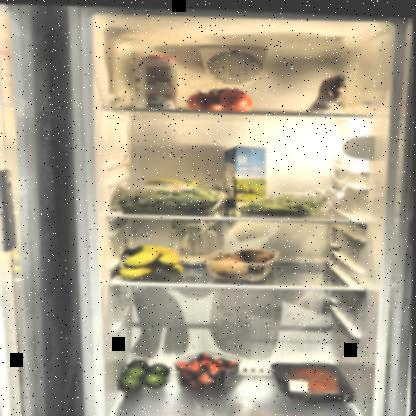banana: (116, 241, 186, 279)
beef: (270, 357, 357, 401)
green_beans: (228, 186, 336, 218)
lime: (119, 356, 172, 392)
milk: (222, 142, 270, 207)
potato: (199, 237, 279, 278)
spinach: (115, 174, 227, 214)
strawberries: (173, 346, 245, 391)
tomato: (186, 82, 256, 112)
